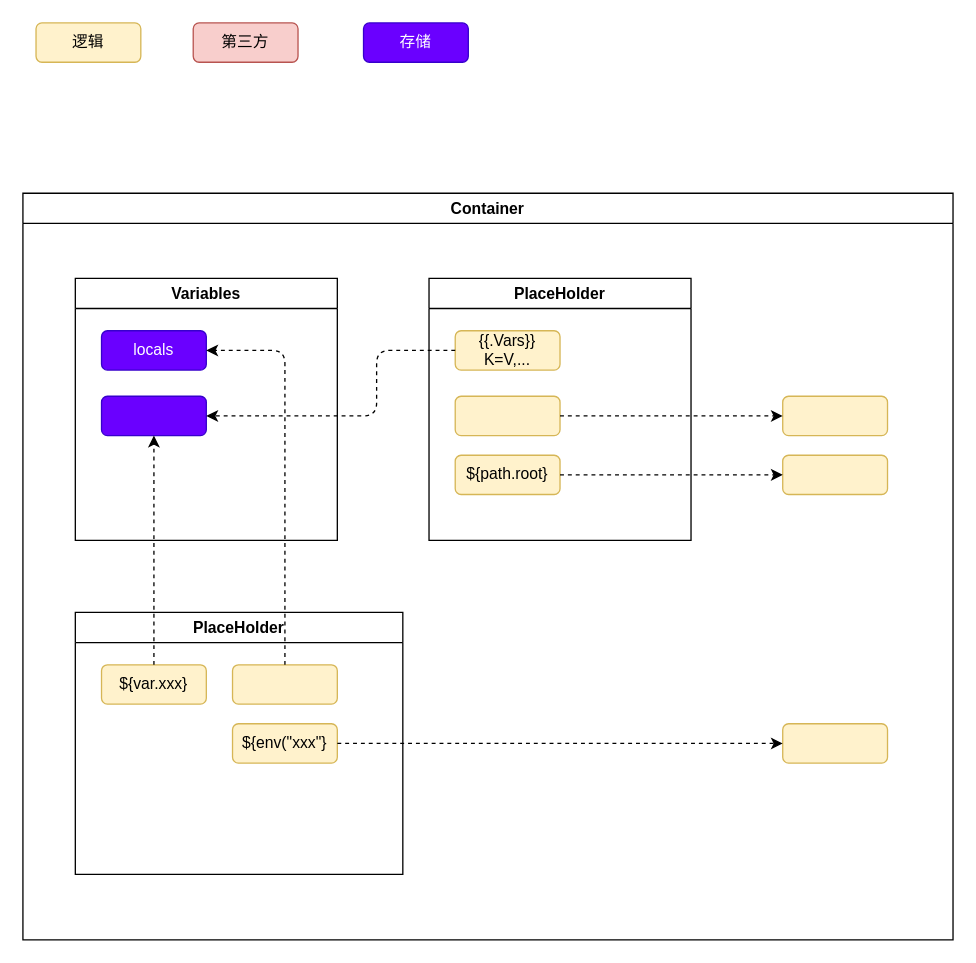
The diagram is 976 pixels wide and 963 high, and some of its shapes have lost their labels. Each missing label, with the centre of its shape:
${local.xxx}: point (284, 684)
Environments: point (834, 742)
Packer 执行目录: point (834, 474)
provisioner: point (834, 415)
variable: point (153, 415)
{{.Path}}: point (507, 415)
